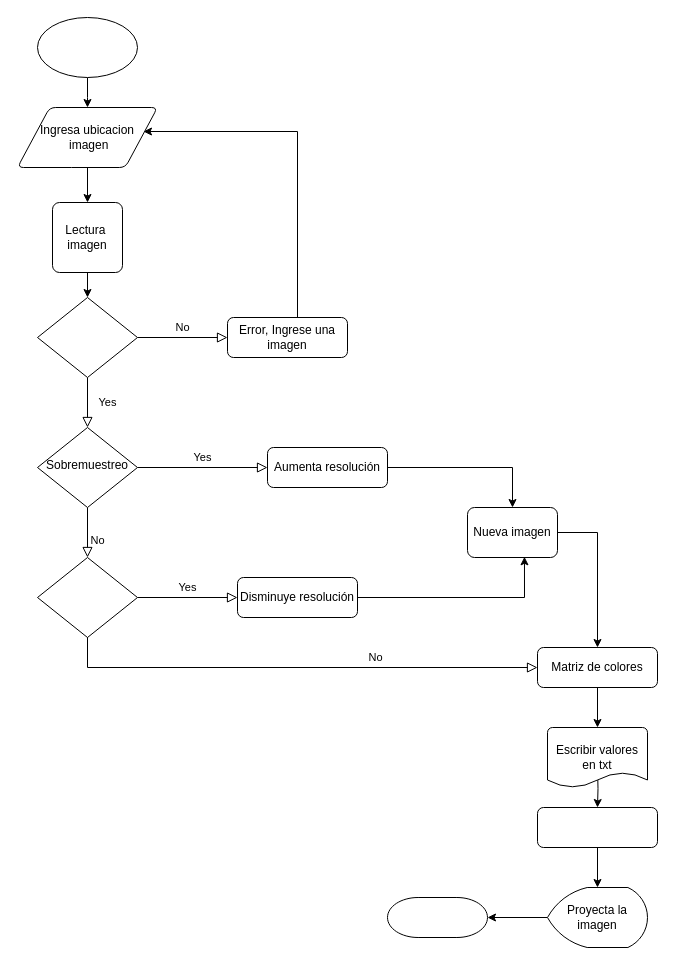
Image size: 675x965. Some labels were removed from this diagram. Each missing label, with the centre of its shape:
Es imagen: (87,337)
Inicio: (87,47)
Pasar la información a tinkercad: (597,827)
Submuestreo: (87,597)
Termina el programa: (437,917)
